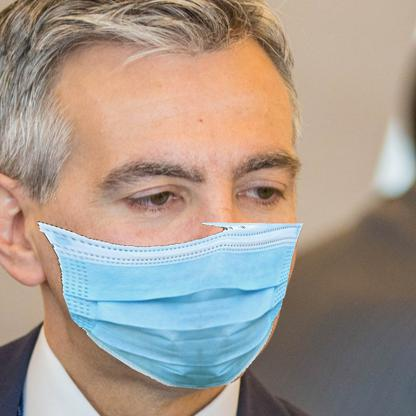mask: (34, 212, 307, 397)
